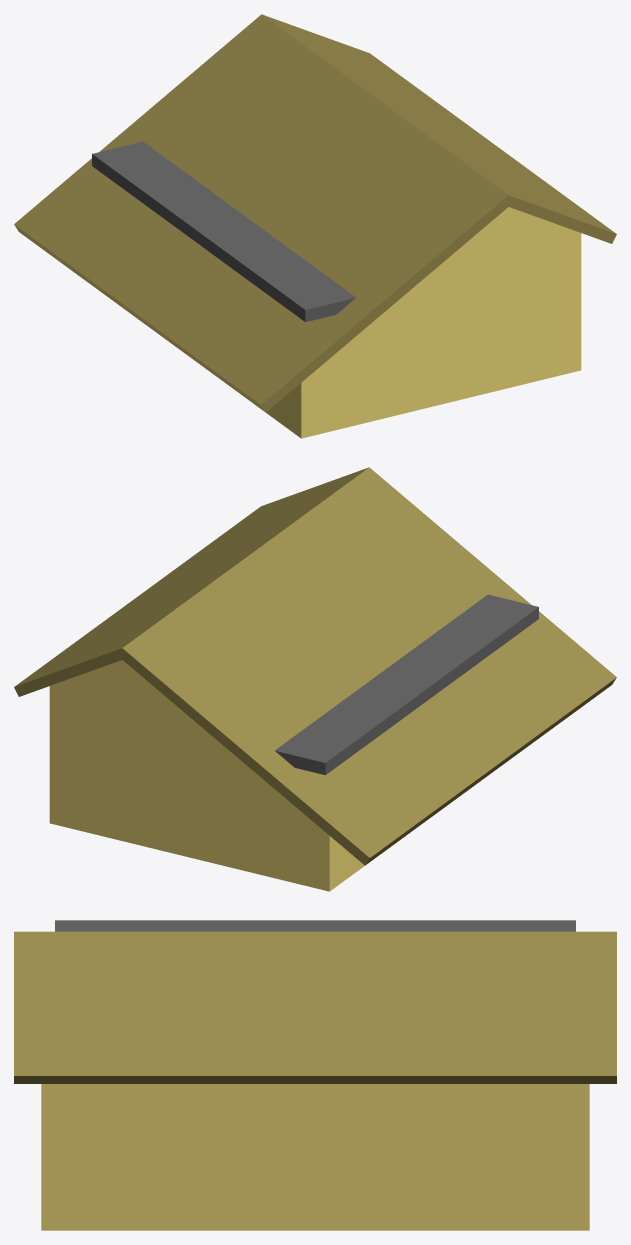
Rendered from result.glb.
The picture shows the model from 3 angles, top to bottom: view 1: azimuth 30°, elevation 25°; view 2: azimuth 150°, elevation 25°; view 3: azimuth 270°, elevation 25°; orthographic projection. The views are drawn at different scales.
Visible parts, largest first — view 1: f895d560-ad69-461a-aafb-86fc1b0841d9__undefined (×2), f4aced1d-fa43-47a8-b3bc-4c757fa1ce01__undefined, a3ac5bcb-b106-424b-bbd9-2c6ccf4ec667__Box; view 2: f895d560-ad69-461a-aafb-86fc1b0841d9__undefined (×2), f4aced1d-fa43-47a8-b3bc-4c757fa1ce01__undefined, a3ac5bcb-b106-424b-bbd9-2c6ccf4ec667__Box; view 3: f895d560-ad69-461a-aafb-86fc1b0841d9__undefined, f4aced1d-fa43-47a8-b3bc-4c757fa1ce01__undefined, a3ac5bcb-b106-424b-bbd9-2c6ccf4ec667__Box.
Part boxes in pixels (box(x1,y1,x2,y2)): f895d560-ad69-461a-aafb-86fc1b0841d9__undefined (×2): box(14, 14, 616, 412); f4aced1d-fa43-47a8-b3bc-4c757fa1ce01__undefined: box(266, 207, 581, 438); a3ac5bcb-b106-424b-bbd9-2c6ccf4ec667__Box: box(92, 141, 355, 322); f895d560-ad69-461a-aafb-86fc1b0841d9__undefined (×2): box(14, 467, 616, 865); f4aced1d-fa43-47a8-b3bc-4c757fa1ce01__undefined: box(49, 660, 364, 891); a3ac5bcb-b106-424b-bbd9-2c6ccf4ec667__Box: box(275, 594, 538, 775); f895d560-ad69-461a-aafb-86fc1b0841d9__undefined: box(14, 931, 616, 1083); f4aced1d-fa43-47a8-b3bc-4c757fa1ce01__undefined: box(41, 1084, 589, 1230); a3ac5bcb-b106-424b-bbd9-2c6ccf4ec667__Box: box(55, 920, 575, 931).
Bounding box in the file's own units: 915 × 501 × 1100.
